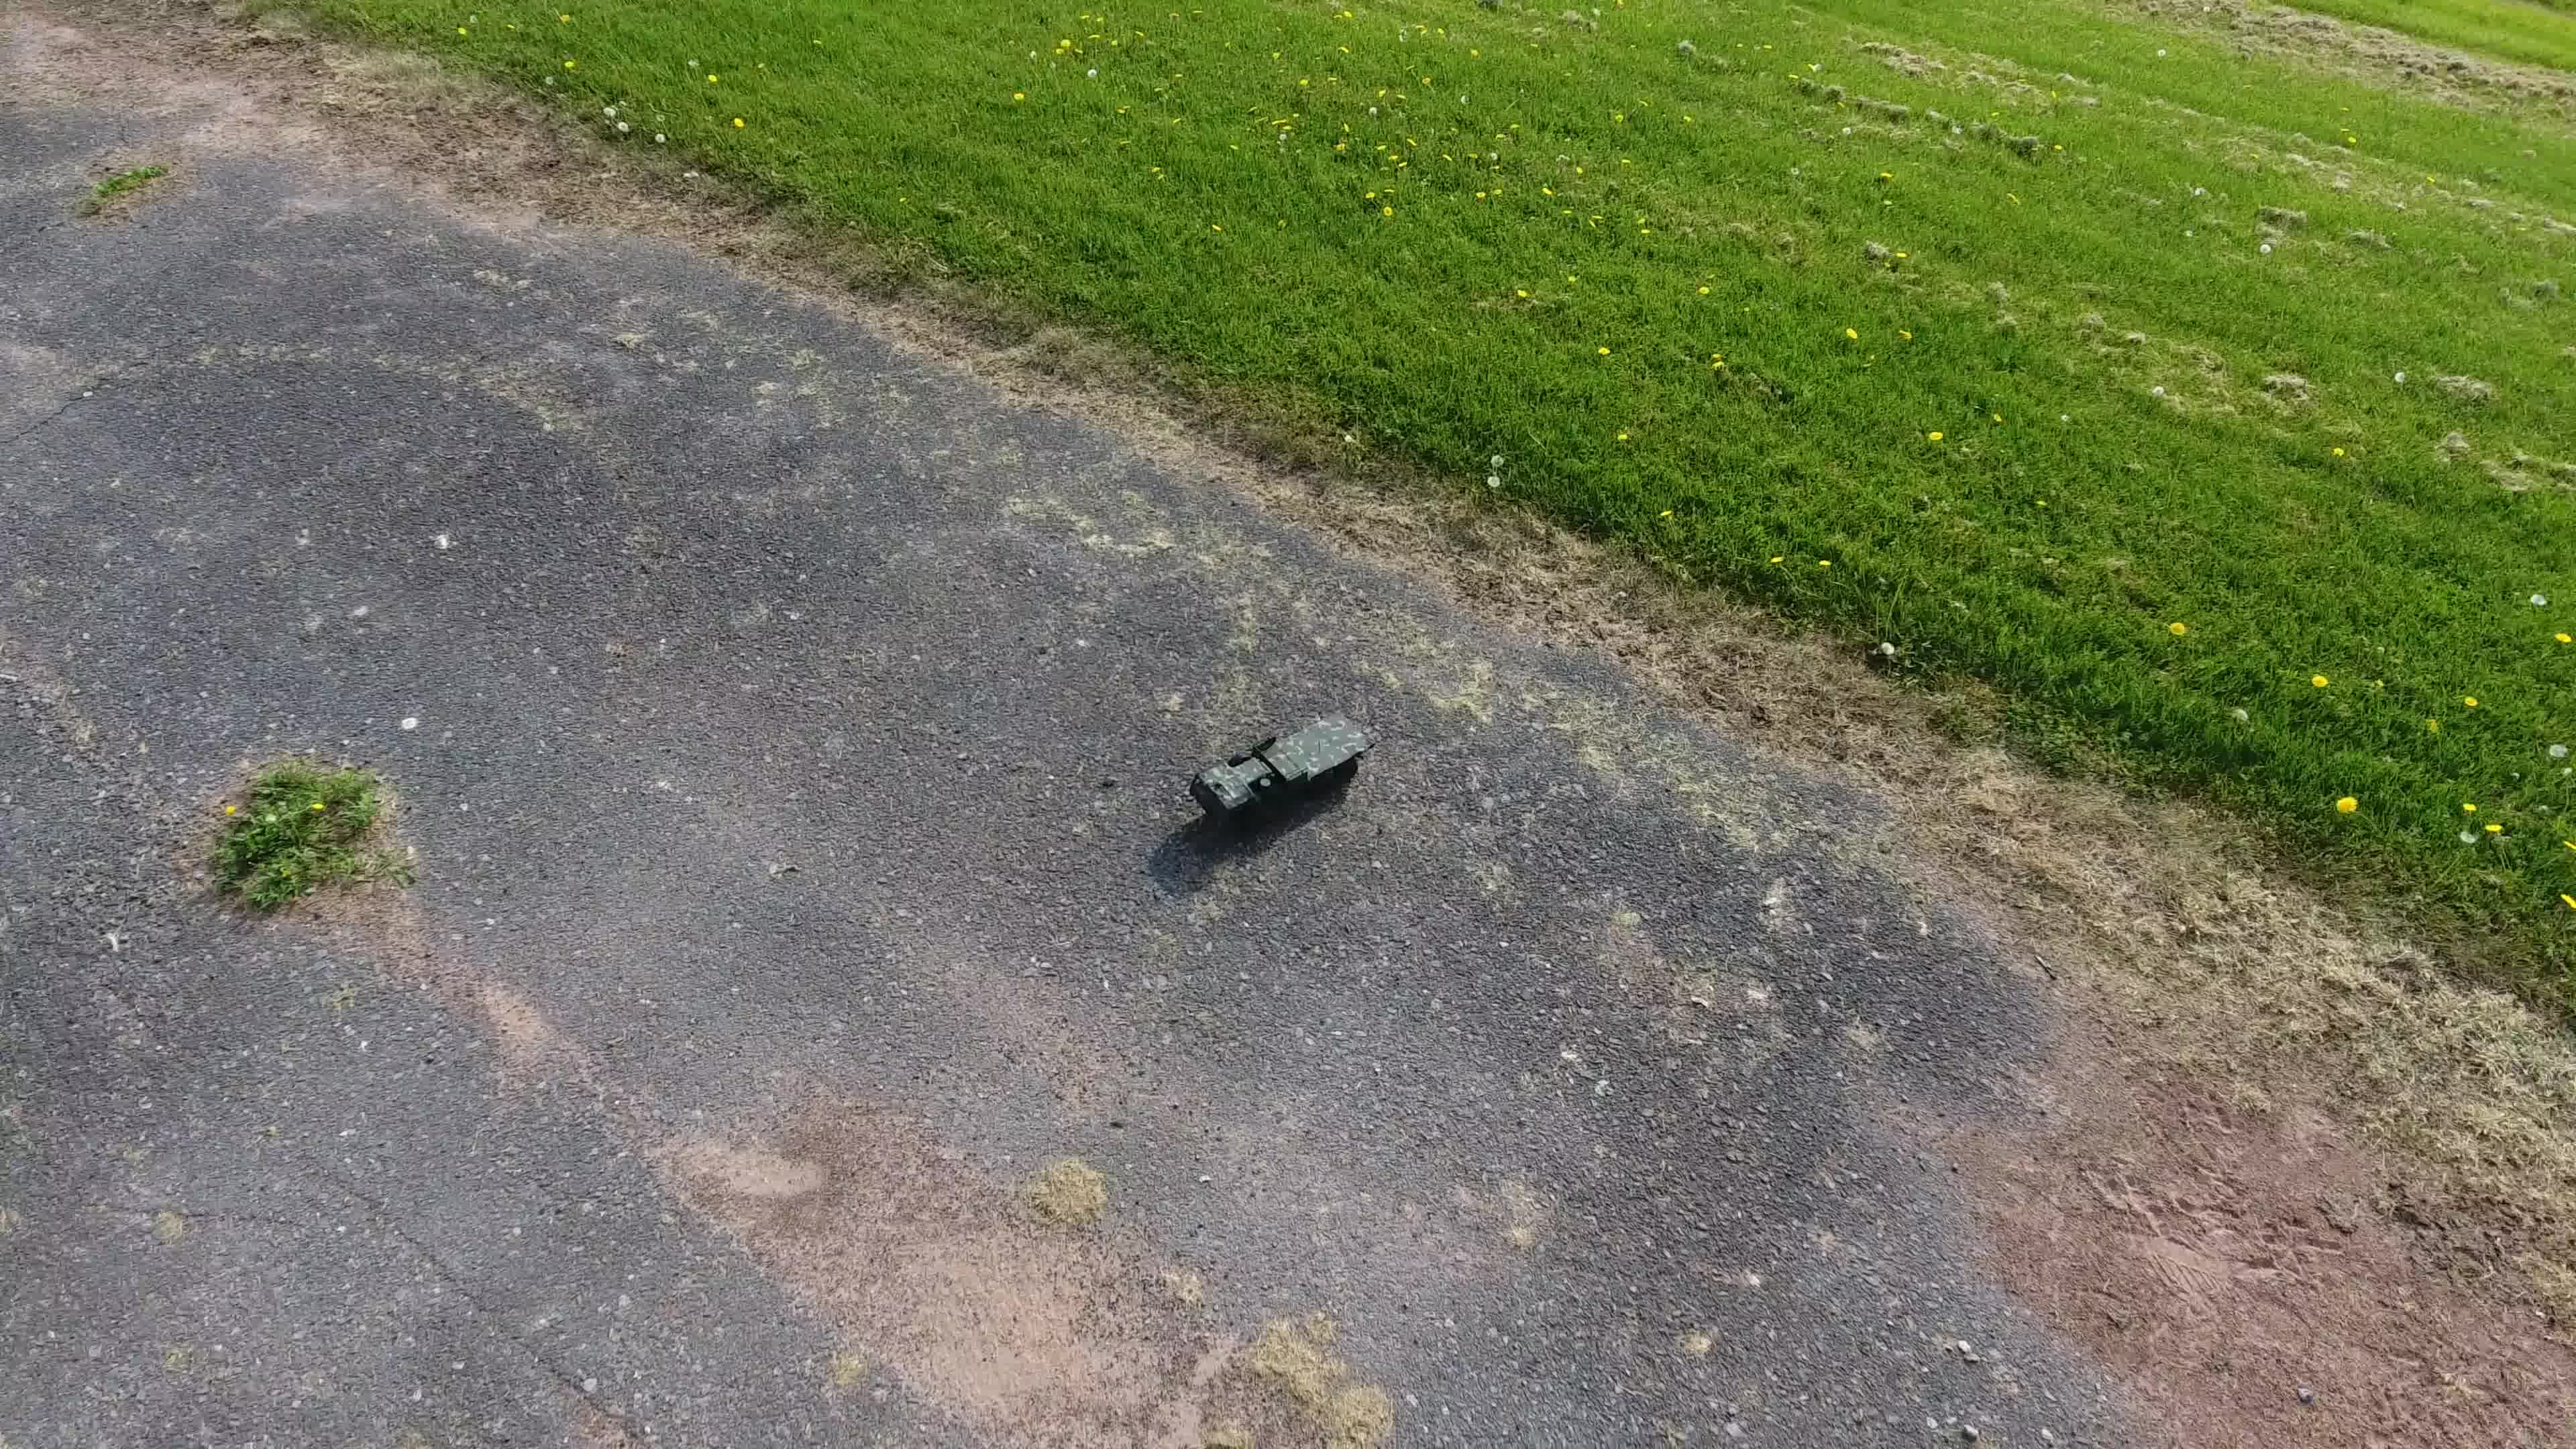transporter9_camo: (1187, 702, 1378, 835)
